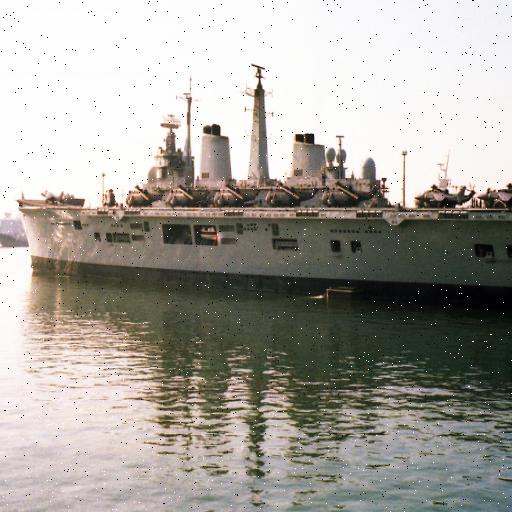Portanaves: (12, 59, 512, 315)
